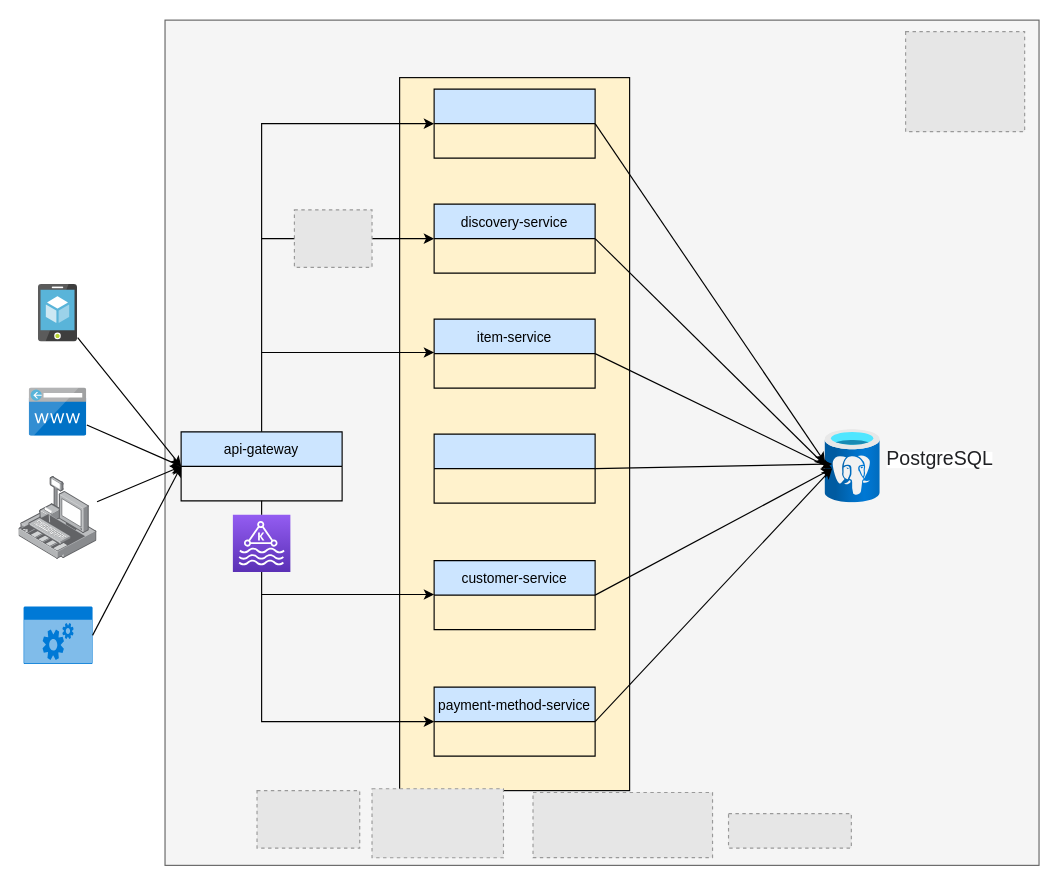
The diagram is 1060 pixels wide and 886 high, and some of its shapes have lost their labels. Grey dashed boxes stand in for pictures. The shapes that lost their labels are listed below. From the top down, each one's centre as x and y in pixels, then its label:
At [514,123]: "order-service".
At [514,468]: "address-service".
